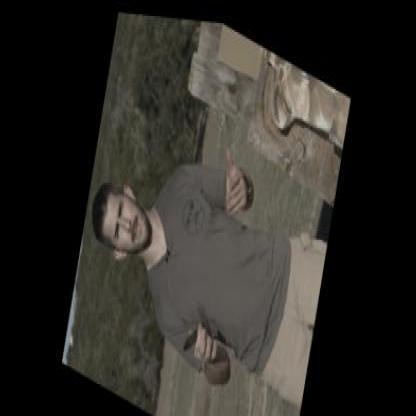knife: (178, 306, 209, 362)
